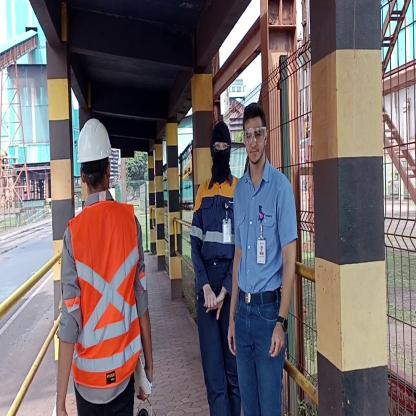Balaclava: (207, 119, 231, 177)
Capacete: (76, 114, 112, 162)
Operacional: (191, 178, 235, 259)
colete: (68, 199, 141, 380)
